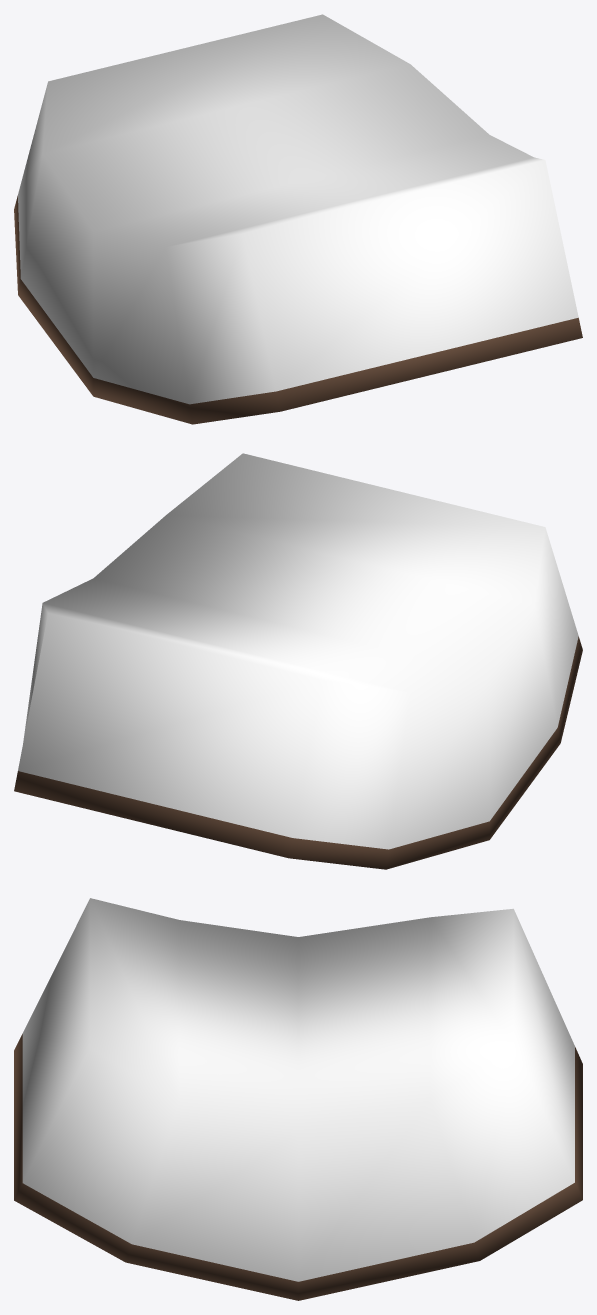
File: coconutchunk.fbx
The picture shows the model from 3 angles, top to bottom: view 1: azimuth 30°, elevation 25°; view 2: azimuth 150°, elevation 25°; view 3: azimuth 270°, elevation 25°; orthographic projection.
Visible parts, largest first — view 1: coconutchunk; view 2: coconutchunk; view 3: coconutchunk.
Part boxes in pixels (bbox=[...]): coconutchunk: bbox=[14, 14, 582, 424]; coconutchunk: bbox=[14, 453, 582, 869]; coconutchunk: bbox=[14, 898, 582, 1300].
Size of the model in its own units: 15.55 by 8.5 by 19.06.
